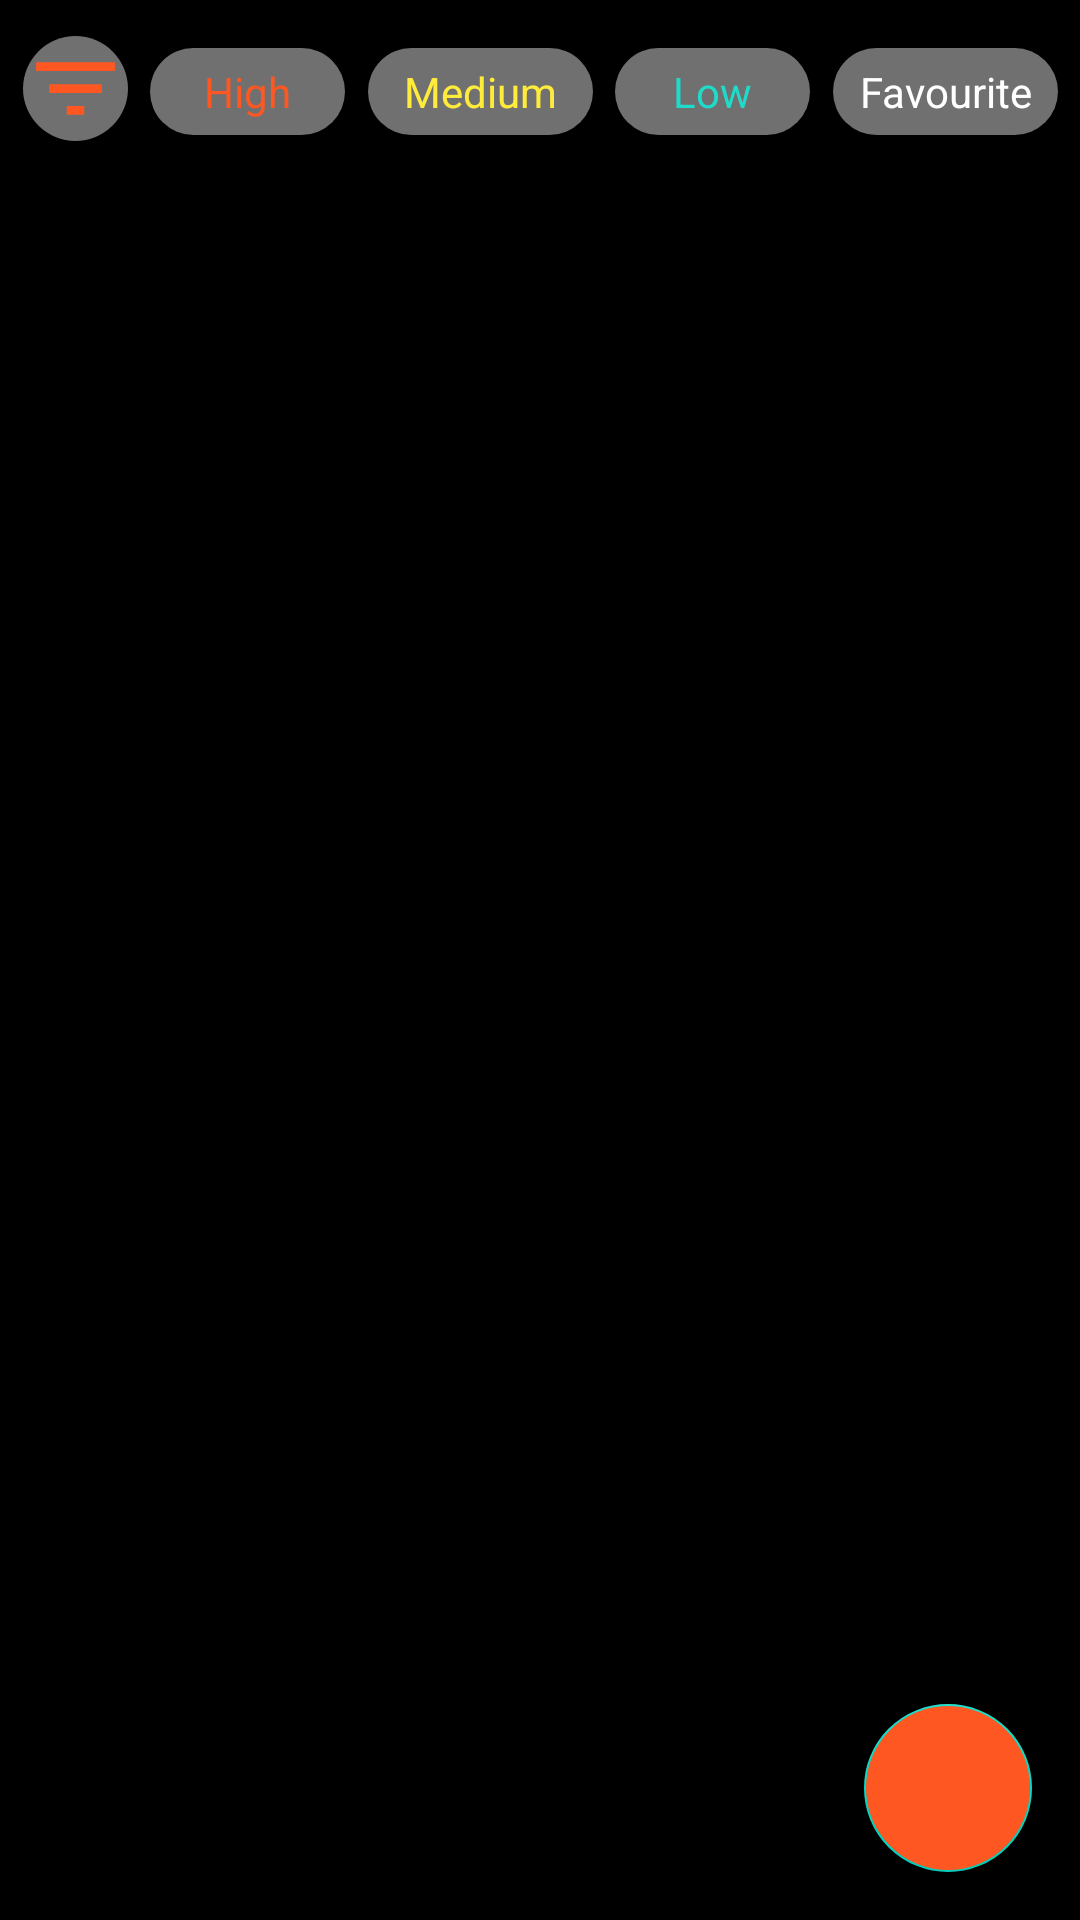

Icon click points for this 1080 × 1920 phone screenshot, format point (x, y):
filter list: point (75, 88)
